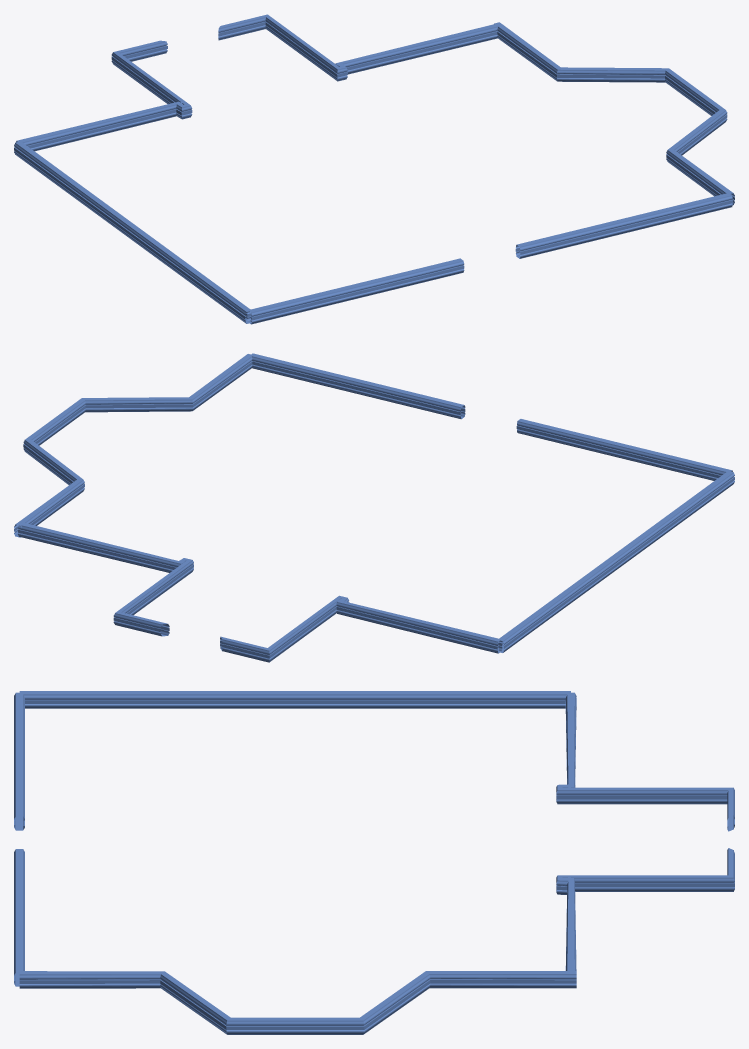
The model's file is Baseboard.obj.
The picture shows the model from 3 angles, top to bottom: view 1: azimuth 30°, elevation 25°; view 2: azimuth 150°, elevation 25°; view 3: azimuth 270°, elevation 25°; orthographic projection. The views are drawn at different scales.
Visible parts, largest first — view 1: Baseboard; view 2: Baseboard; view 3: Baseboard.
Part boxes in pixels (bbox=[...]): Baseboard: bbox=[14, 14, 734, 324]; Baseboard: bbox=[14, 353, 734, 662]; Baseboard: bbox=[14, 691, 734, 1034].
Size of the model in its own units: 14.19 by 0.2857 by 13.07.
